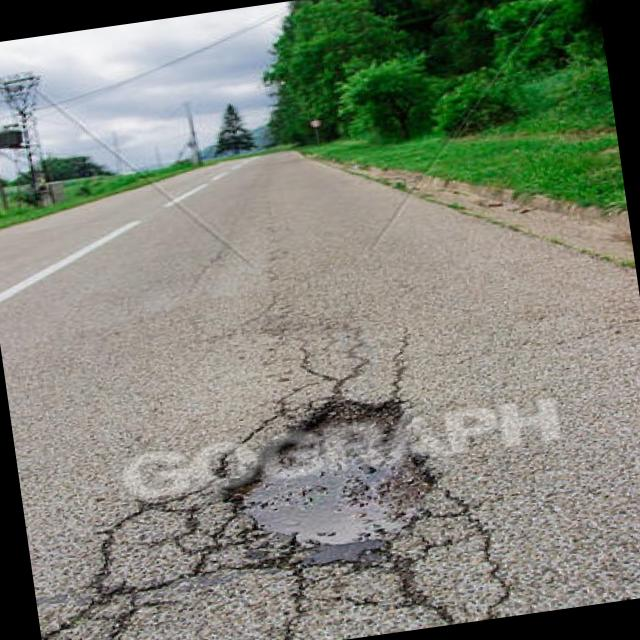Potholes: (164, 347, 520, 619)
